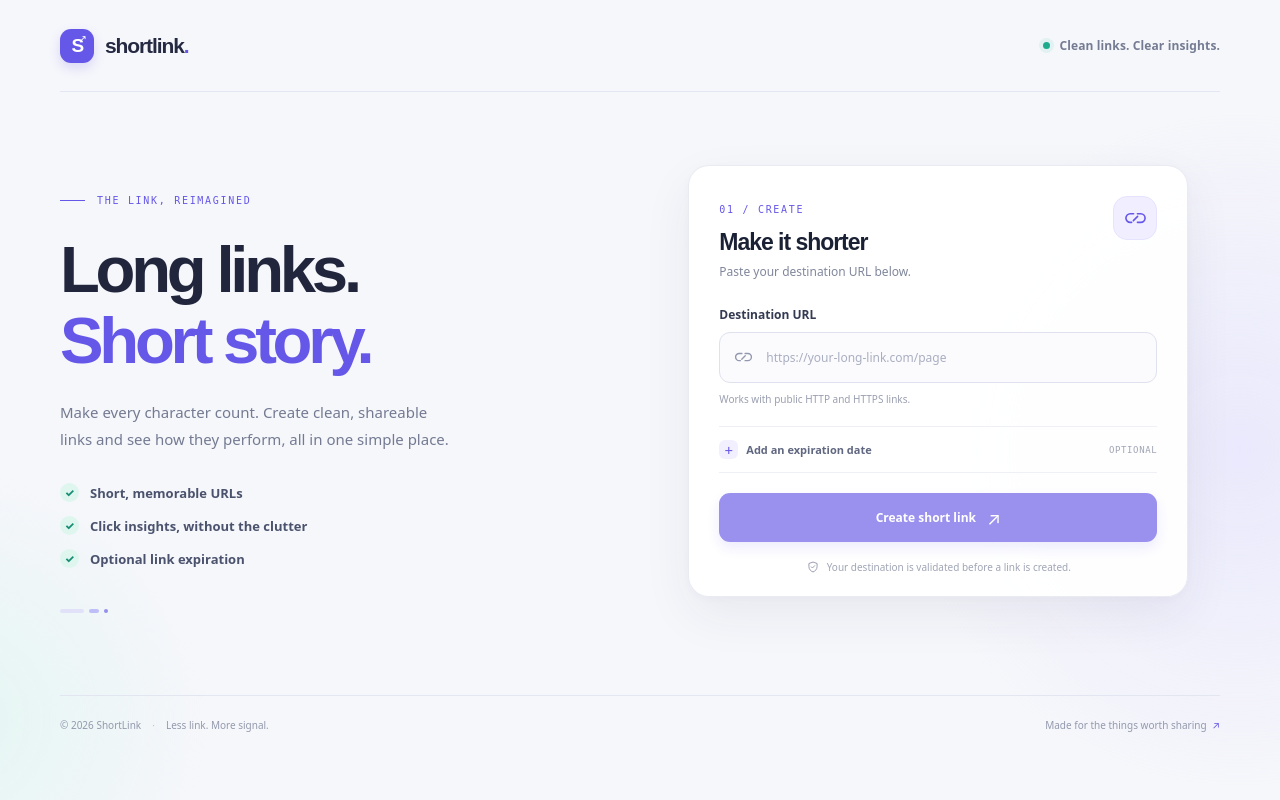
HomePage › shows validation feedback for an invalid URL
This screenshot has width=1280, height=800.
Type "javascript:alert(1)" into the field labelled "Destination URL" at (953, 358), box left=764, top=348, right=1142, bottom=367
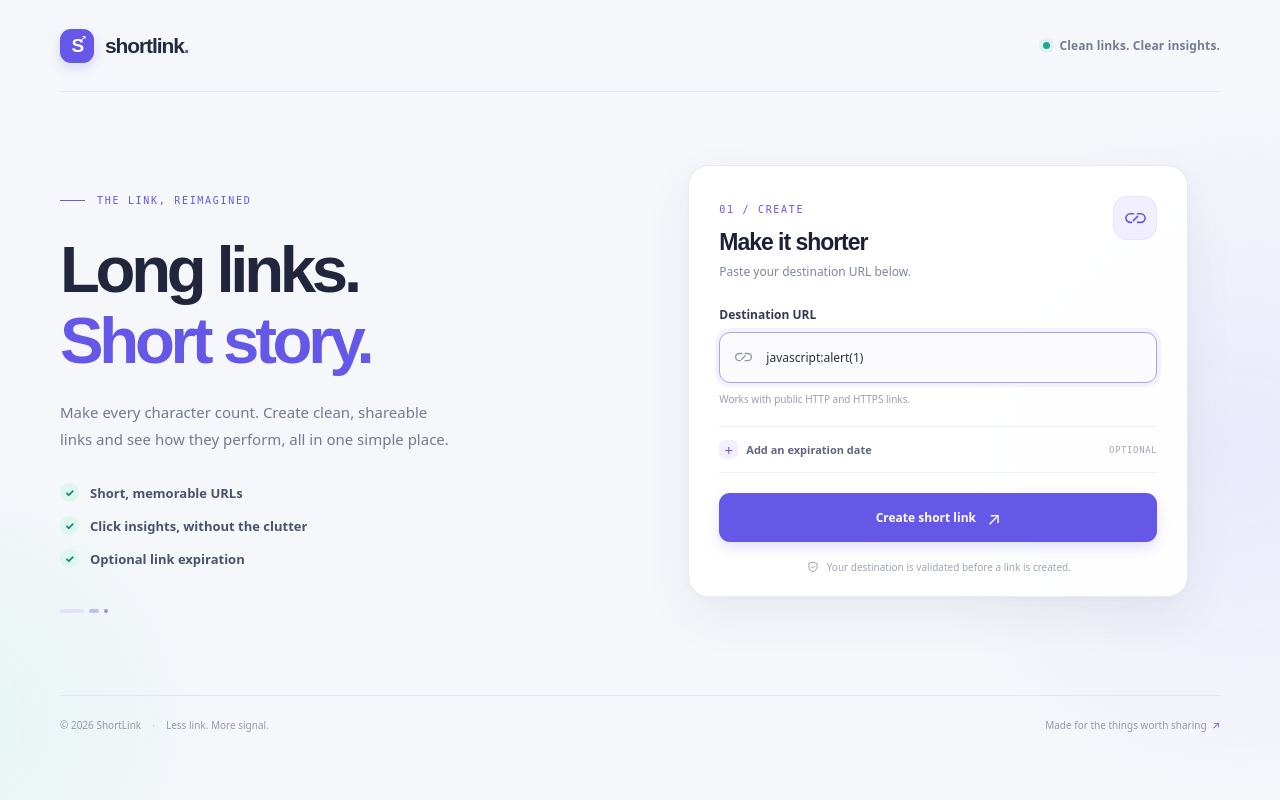
Click the button "Create short link ↗" at (938, 518), box left=719, top=493, right=1157, bottom=542
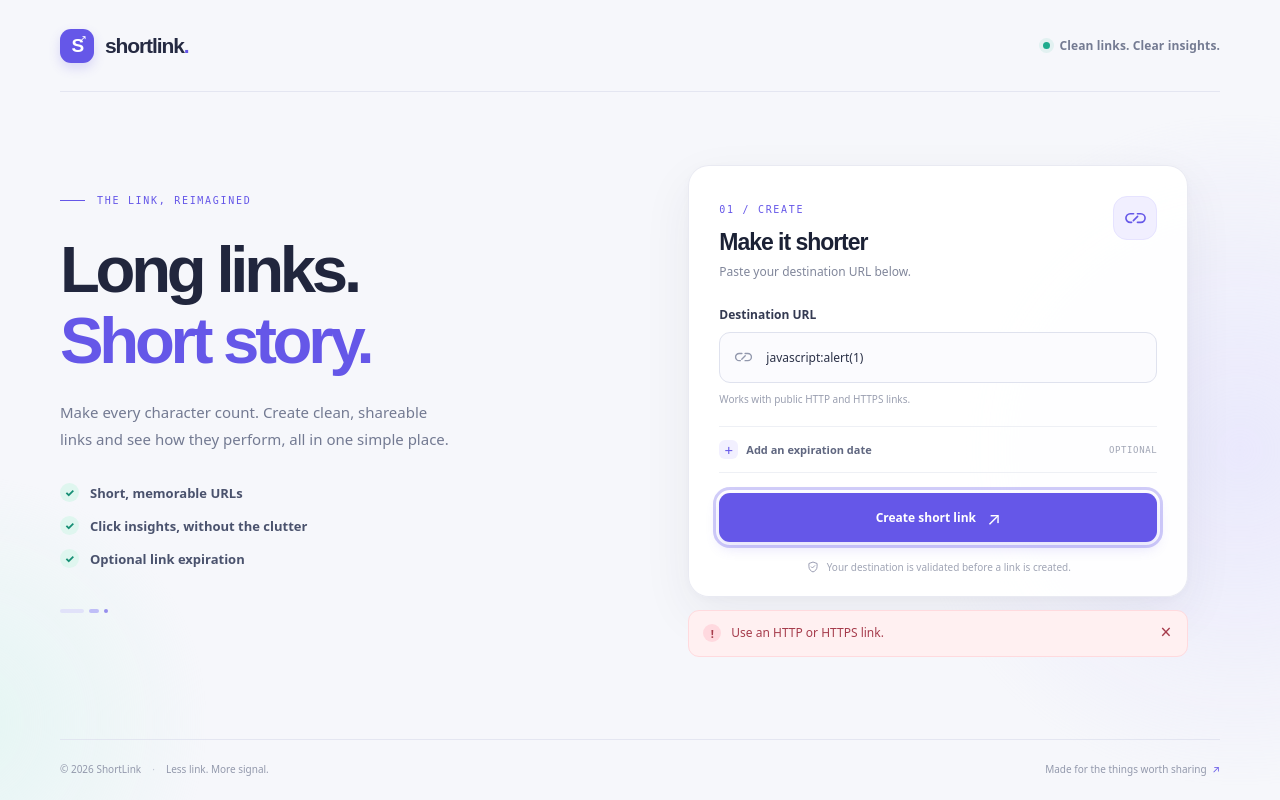
Now the message shows "HTTP or HTTPS", box left=731, top=624, right=884, bottom=641
